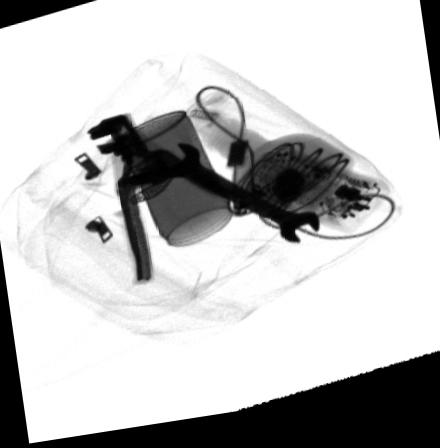Pliers: (85, 115, 255, 287)
Wrench: (149, 146, 320, 251)
